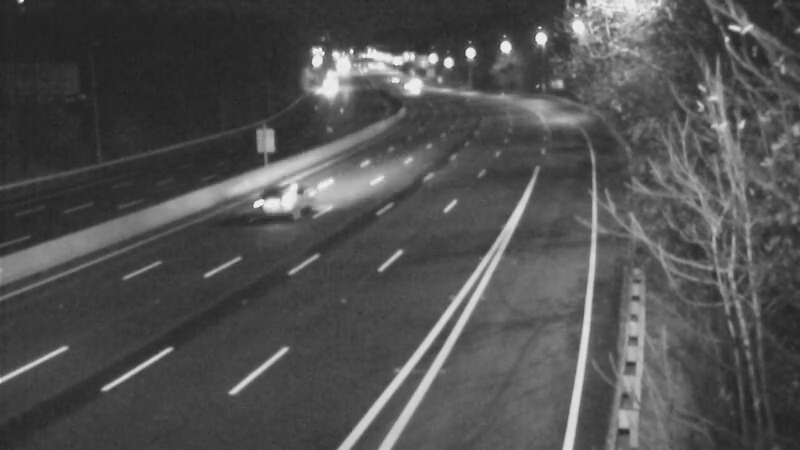vehicle: (235, 164, 315, 244), (369, 54, 419, 104), (389, 65, 439, 115)
